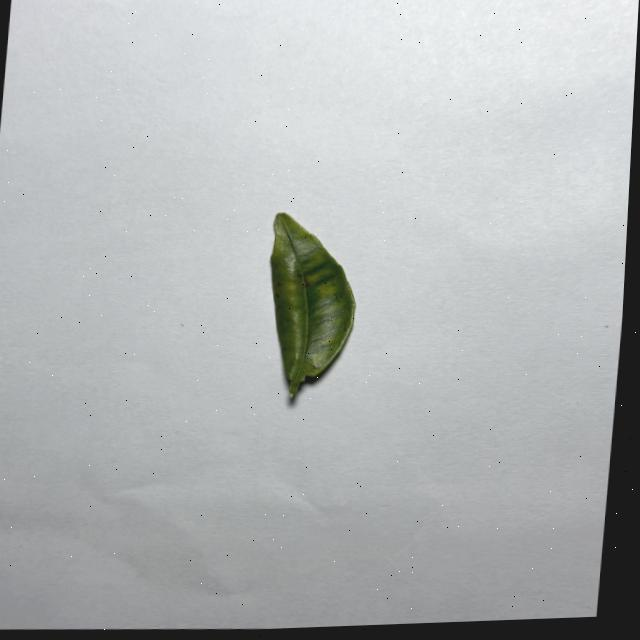greening: (270, 213, 355, 397)
